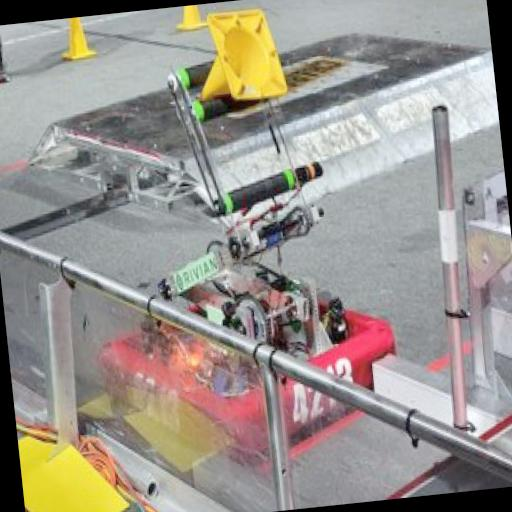robot: (76, 40, 419, 444)
